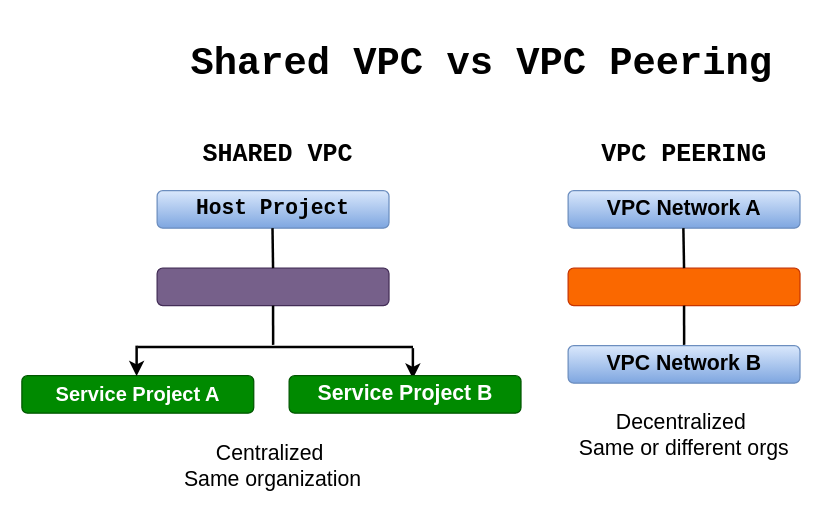
Image size: 828x516. Some labels were removed from this diagram. Here are the shapes that lost their labels. From the top down, the centre of each, then its label:
At (272,286): "Shared VPC Network".
At (683,286): "Peering".
